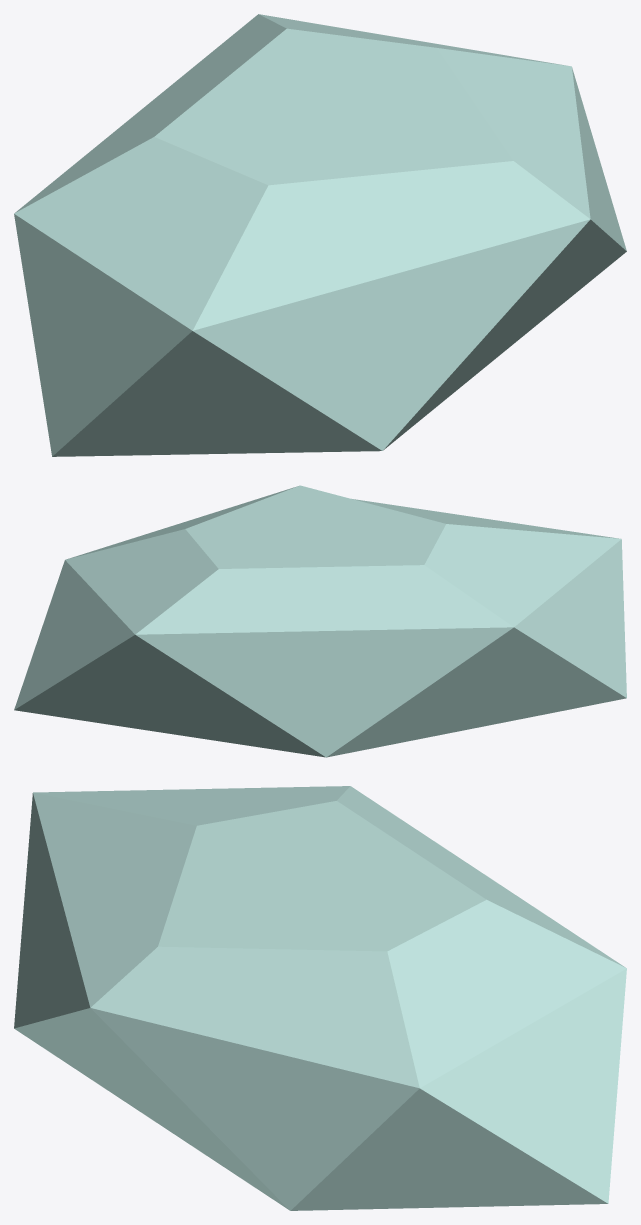
File: SM_Rock_01.fbx
The picture shows the model from 3 angles, top to bottom: view 1: azimuth 30°, elevation 25°; view 2: azimuth 150°, elevation 25°; view 3: azimuth 270°, elevation 25°; orthographic projection. The views are drawn at different scales.
Parts seen in each view (by area): view 1: Icosphere.019; view 2: Icosphere.019; view 3: Icosphere.019.
Boxes of the visible parts, <box> form: Icosphere.019: <box>14,14,626,456</box>; Icosphere.019: <box>14,485,626,757</box>; Icosphere.019: <box>14,786,626,1210</box>.
Size of the model in its own units: 317 by 140 by 267.
